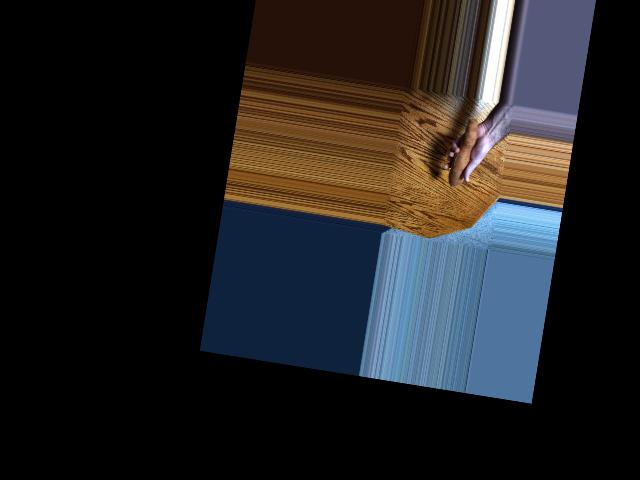sweet_potato: (445, 109, 486, 191)
